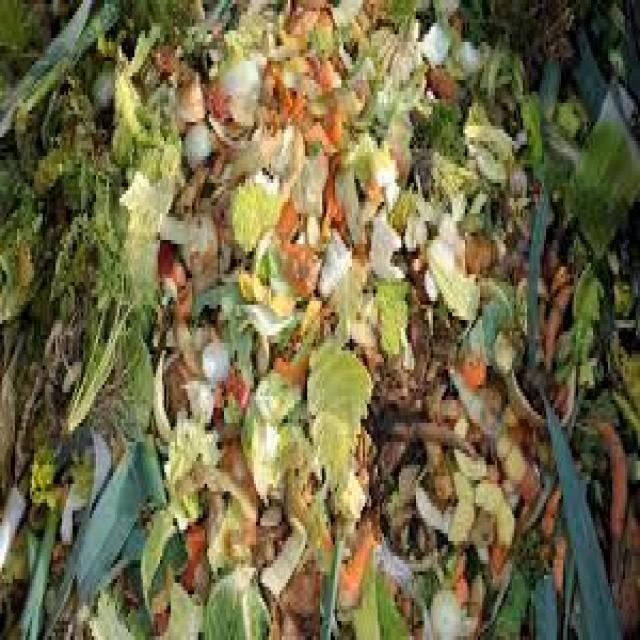Wet: (1, 0, 640, 639), (15, 68, 161, 486), (172, 46, 322, 195), (296, 294, 390, 482)
